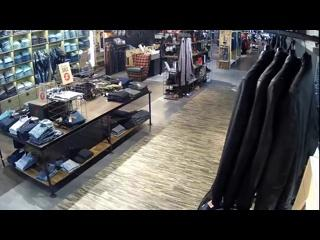Normal: (198, 44, 320, 208)
